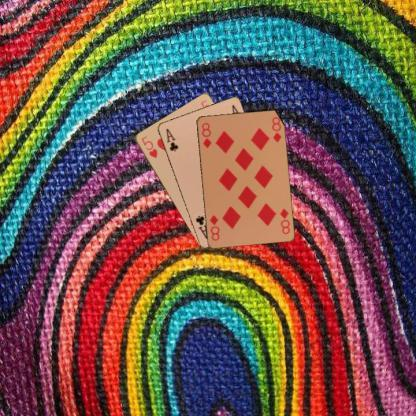5h: (139, 133, 158, 159)
8d: (198, 120, 212, 149), (276, 206, 290, 235)
Ac: (164, 126, 179, 152)
